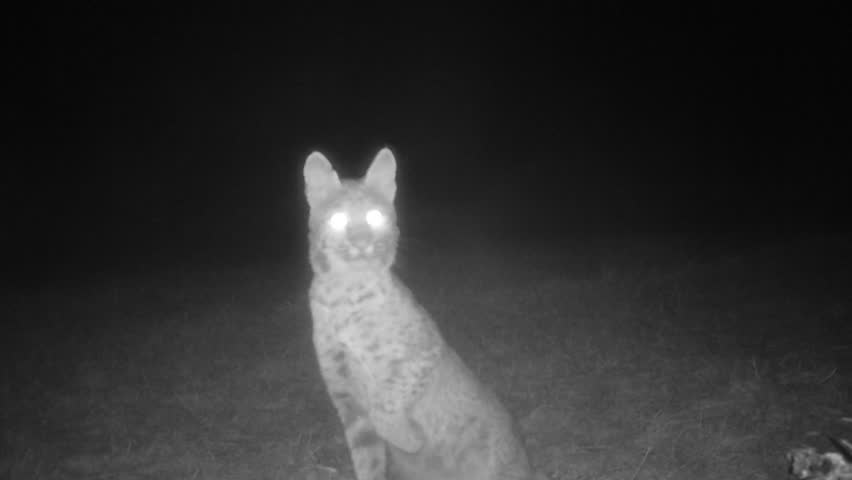bobcat: (279, 142, 571, 480)
